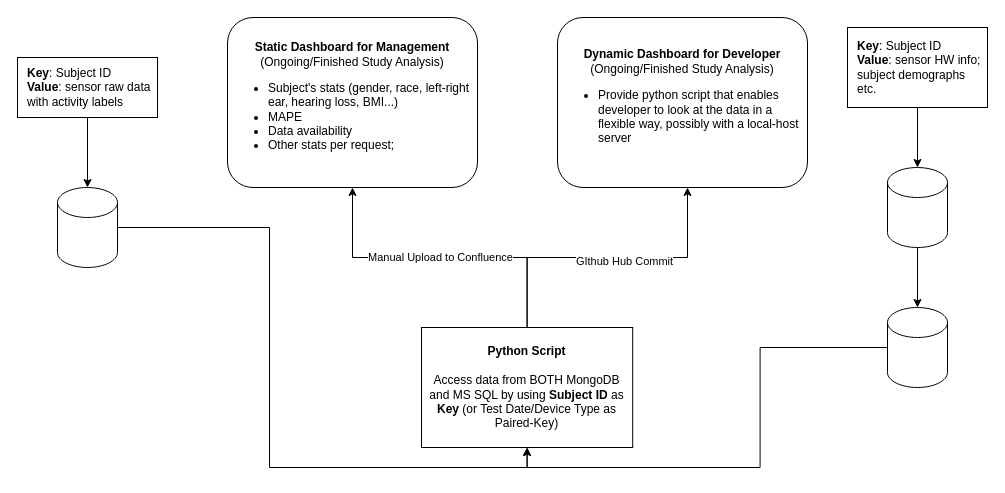
Image size: 1005x493. Some labels were removed from this diagram. Each missing label, with the box of its shape:
IBM Clinical: (886, 166, 948, 248)
MongoDB: (56, 186, 118, 268)
MS SQL: (886, 306, 948, 388)
